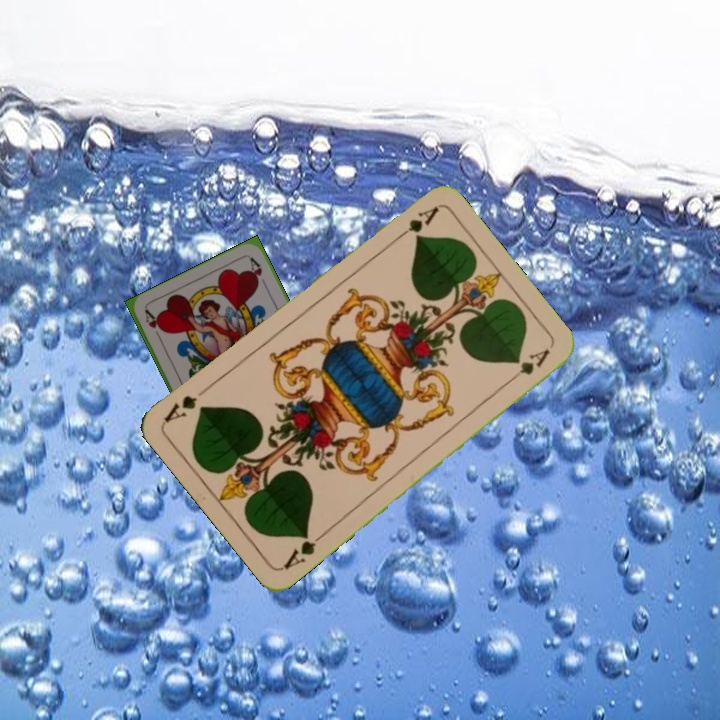GA: (279, 527, 329, 572), (390, 203, 441, 245)
HA: (141, 306, 165, 345)
